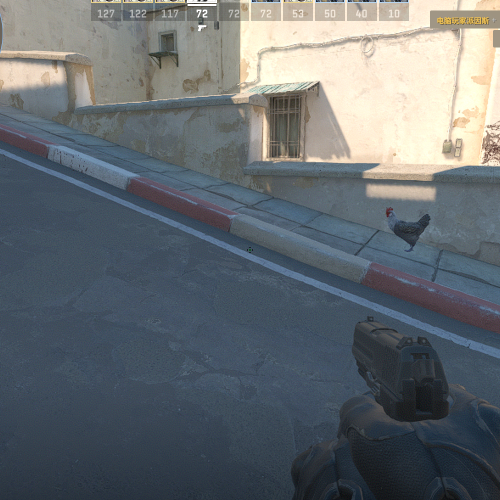chicken: (386, 205, 431, 253)
